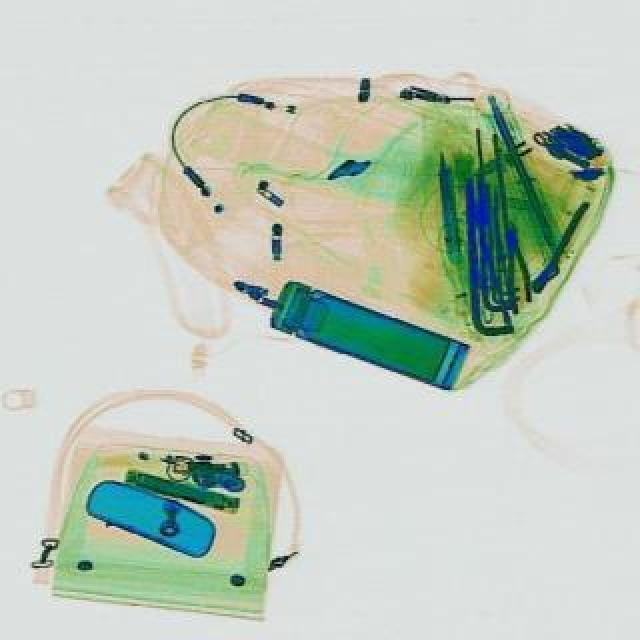scissors: (522, 196, 594, 296)
wrench: (494, 216, 532, 316)
